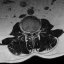CCS_stenosis: (30, 29, 32, 38)
LFS_stenosis: (34, 28, 36, 35)
LLS_stenosis: (32, 29, 34, 36)
RFS_normal: (27, 29, 29, 36)
RLS_normal: (29, 29, 30, 36)
